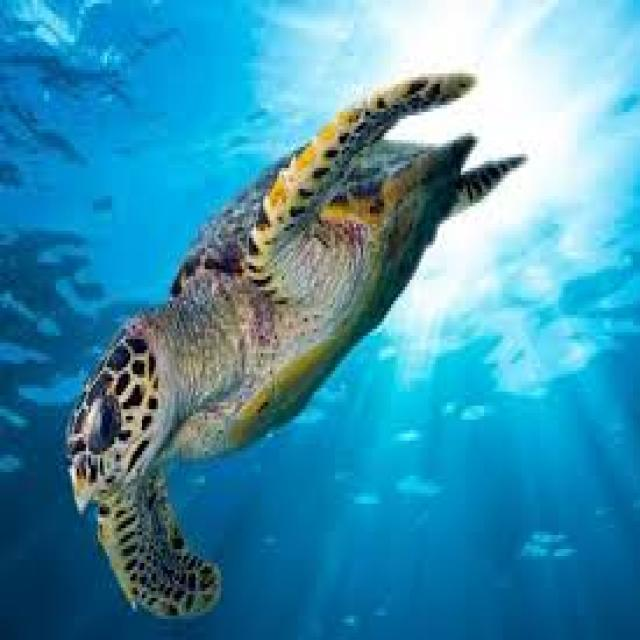Sea turtle: (65, 69, 533, 640)
